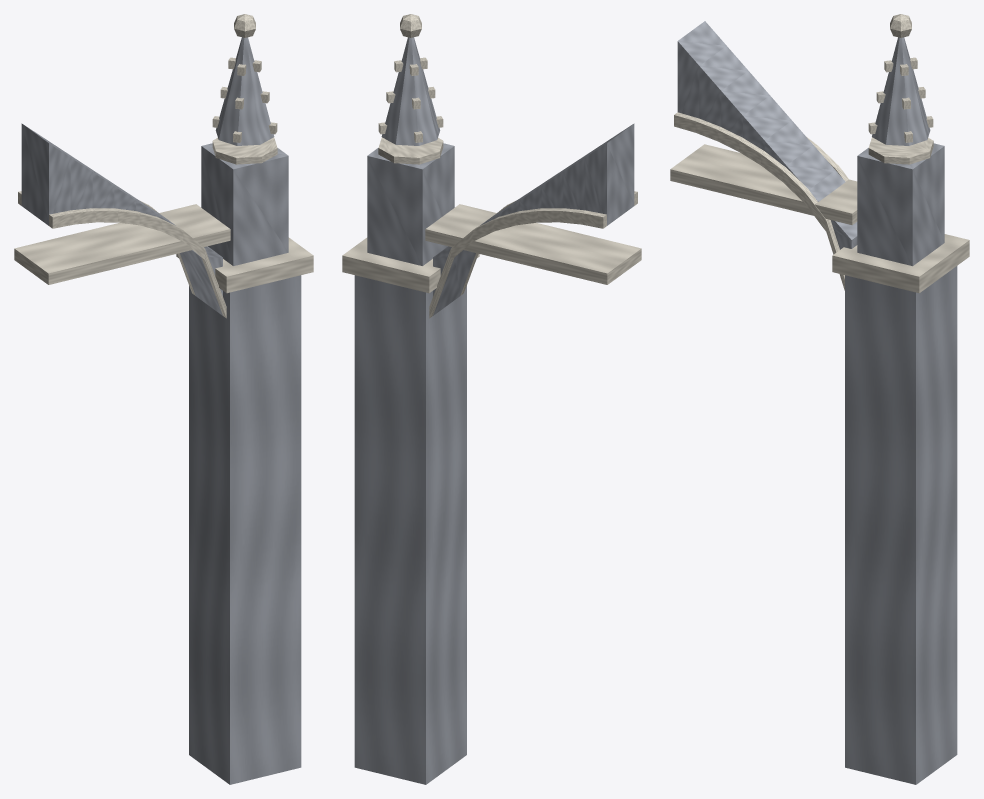
File: vampire-crypt-and-gothic-cathedral-flying-buttress-7a73b273__22936.glb
3 renders of one model, left to right at view 1: azimuth 30°, elevation 25°; view 2: azimuth 150°, elevation 25°; view 3: azimuth 330°, elevation 25°, orthographic.
Parts seen in each view (by area): view 1: flying-buttress; view 2: flying-buttress; view 3: flying-buttress.
Boxes of the visible parts, x1,y1,x2,y2 form: flying-buttress: [14, 14, 313, 784]; flying-buttress: [342, 14, 641, 784]; flying-buttress: [670, 14, 969, 784].
Size of the model in its own units: 3.25 by 9.02 by 1.1.
2 materials, 2 textured.
